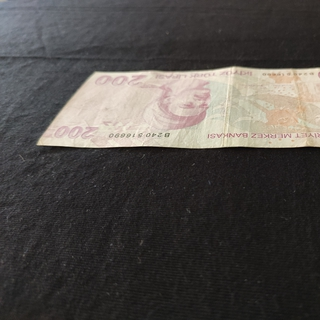200TLBack: (35, 63, 320, 149)
